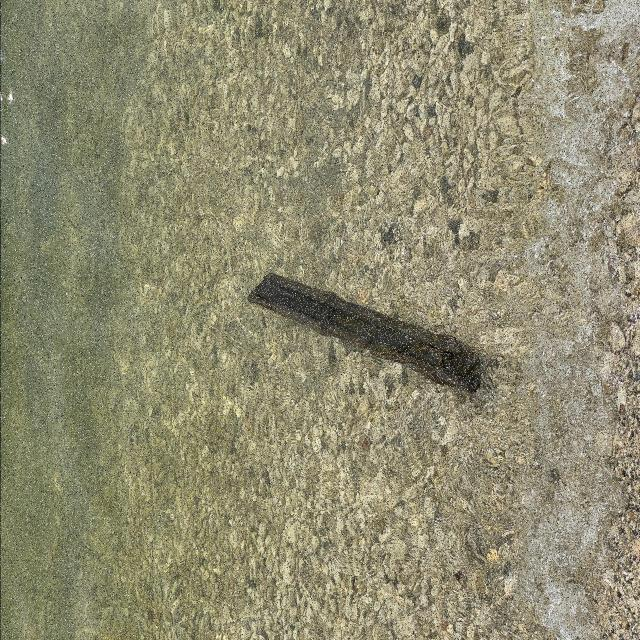wood_waste: (247, 272, 483, 396)
